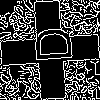D: (25, 25, 73, 65)
